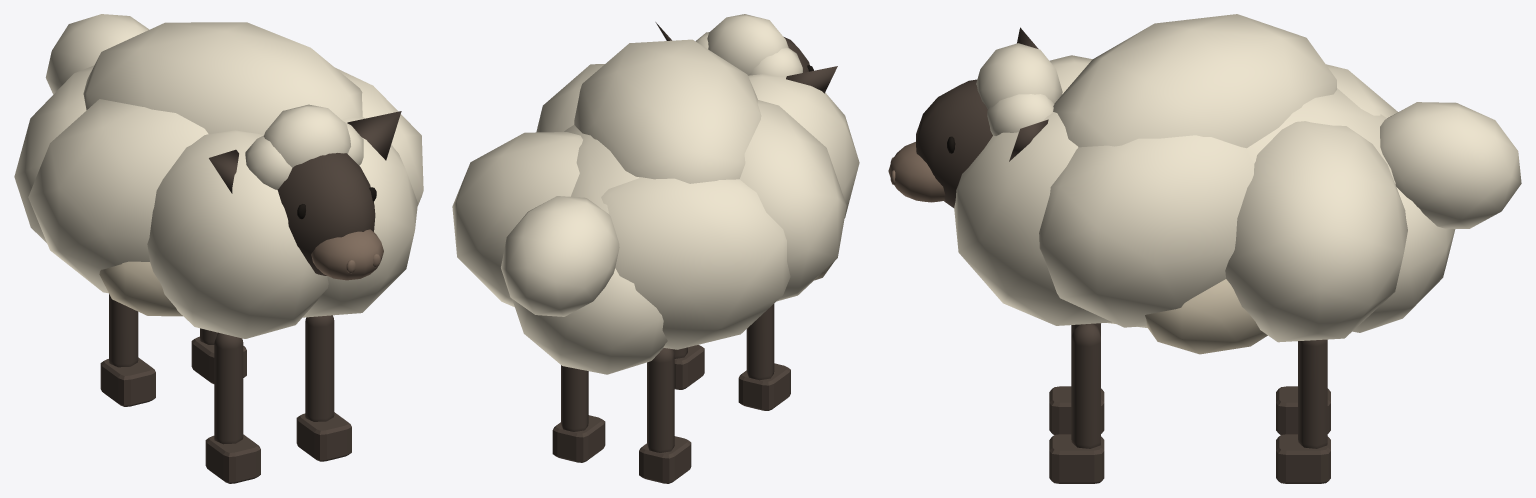
File: sheep.glb
The picture shows the model from 3 angles, left to right: view 1: azimuth 30°, elevation 25°; view 2: azimuth 150°, elevation 25°; view 3: azimuth 270°, elevation 25°; orthographic projection. The views are drawn at different scales.
Visible parts, largest first — view 1: rounded-wool-body, leg-and-hoof (×4), face, forehead-wool, wool-shadow-lobes, muzzle; view 2: rounded-wool-body, leg-and-hoof (×4), forehead-wool, face; view 3: rounded-wool-body, leg-and-hoof (×4), face, forehead-wool, wool-shadow-lobes, muzzle.
Boxes of the visible parts, <box> form: rounded-wool-body: <box>14,14,423,338</box>; leg-and-hoof (×4): <box>100,294,351,483</box>; face: <box>209,111,401,275</box>; forehead-wool: <box>245,104,363,189</box>; wool-shadow-lobes: <box>99,261,182,316</box>; muzzle: <box>311,229,383,280</box>; rounded-wool-body: <box>452,39,859,374</box>; leg-and-hoof (×4): <box>552,304,790,483</box>; forehead-wool: <box>695,14,802,76</box>; face: <box>655,22,837,93</box>; rounded-wool-body: <box>954,14,1521,342</box>; leg-and-hoof (×4): <box>1049,323,1330,483</box>; face: <box>916,27,1048,207</box>; forehead-wool: <box>976,43,1062,135</box>; wool-shadow-lobes: <box>1145,279,1267,354</box>; muzzle: <box>888,142,945,202</box>.
Size of the model in its own units: 1.05 by 1.15 by 1.56.
